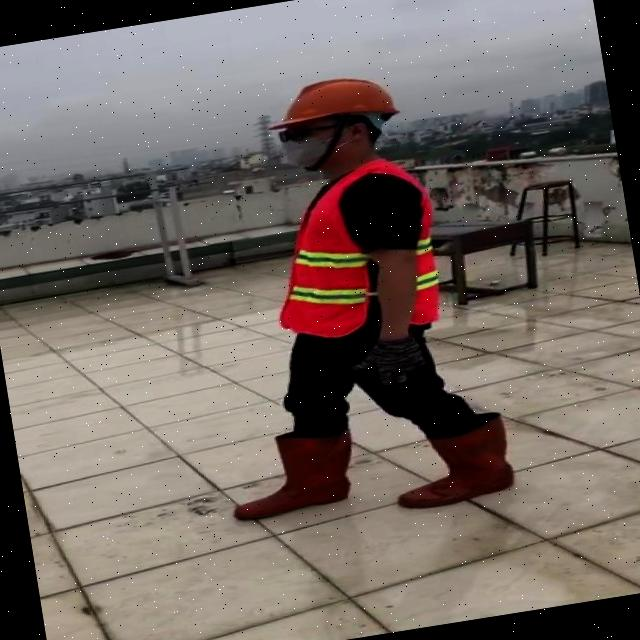boots: (219, 426, 358, 522), (389, 416, 518, 512)
